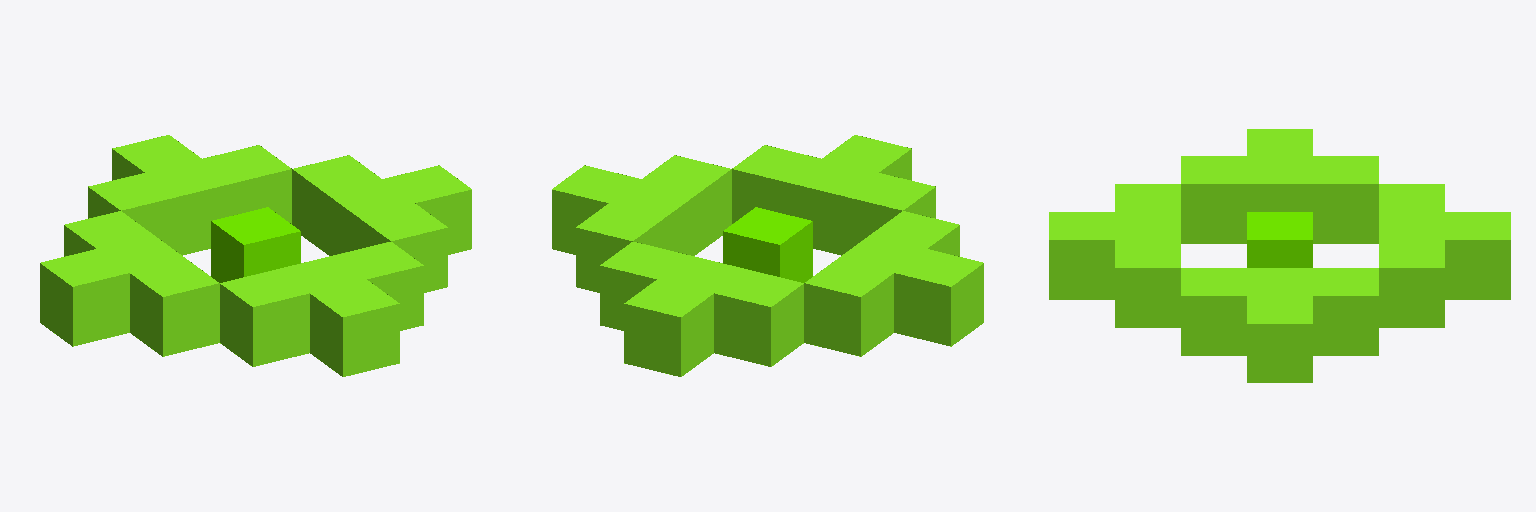
3 renders of one model, left to right at view 1: azimuth 30°, elevation 25°; view 2: azimuth 150°, elevation 25°; view 3: azimuth 270°, elevation 25°, orthographic.
Parts seen in each view (by area): view 1: HeroDirectIcon; view 2: HeroDirectIcon; view 3: HeroDirectIcon.
Part boxes in pixels (bbox=[...]): HeroDirectIcon: bbox=[40, 135, 471, 376]; HeroDirectIcon: bbox=[552, 135, 983, 376]; HeroDirectIcon: bbox=[1049, 129, 1510, 382].
Size of the model in its own units: 7 by 1 by 7.
Materials: 1 (1 with a texture image).